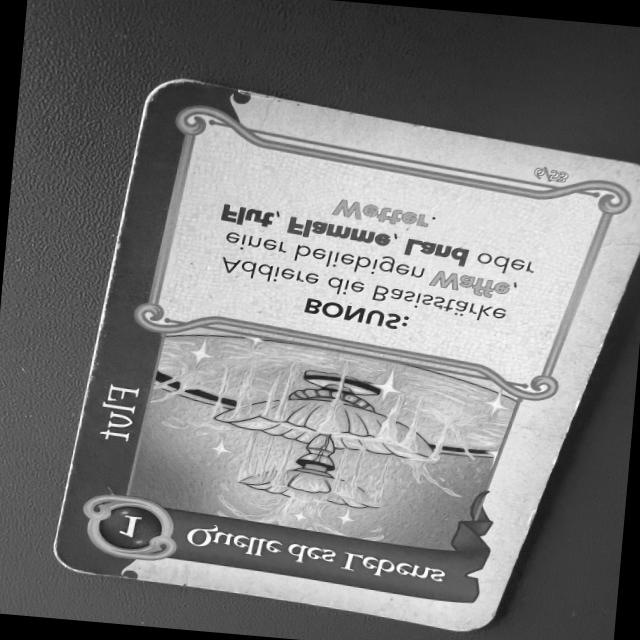Fountain Of Life: (43, 67, 640, 640)
